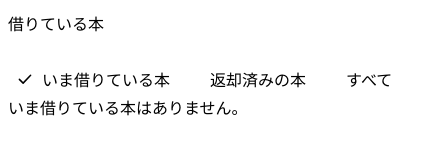
Test: LoanListPage › LL-12: 0件のときに「すべて」を押すと「借りた本はまだありません。」を表示する
This screenshot has width=425, height=160.
Expected: the text "いま借りている本はありません。" is shown, [8, 100, 248, 117]
Click the button "すべて". click: (369, 79)
box: [330, 63, 408, 95]
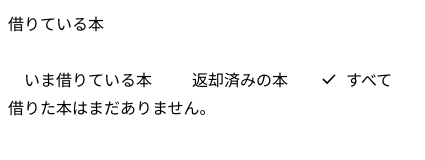
Now the text "借りた本はまだありません。" is shown, box [8, 100, 216, 117]
